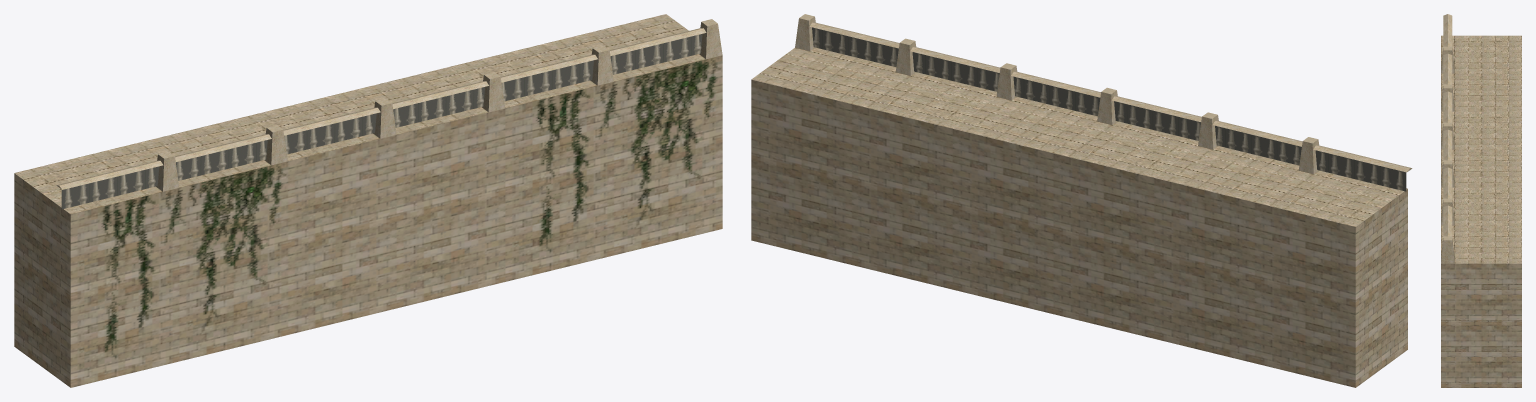
The model's file is thm_nboo_thed_imprv_seawall_straight_s01_3seg_l2.fbx.
The picture shows the model from 3 angles, left to right: view 1: azimuth 30°, elevation 25°; view 2: azimuth 150°, elevation 25°; view 3: azimuth 270°, elevation 25°; orthographic projection. The views are drawn at different scales.
Parts seen in each view (by area): view 1: mesh_node; view 2: mesh_node; view 3: mesh_node.
Boxes of the visible parts, left/top/right/bottom form: mesh_node: left=14, top=14, right=722, bottom=387; mesh_node: left=751, top=14, right=1412, bottom=387; mesh_node: left=1441, top=14, right=1521, bottom=387.
Bounding box in the file's own units: 24.24 × 7.2 × 3.6.
